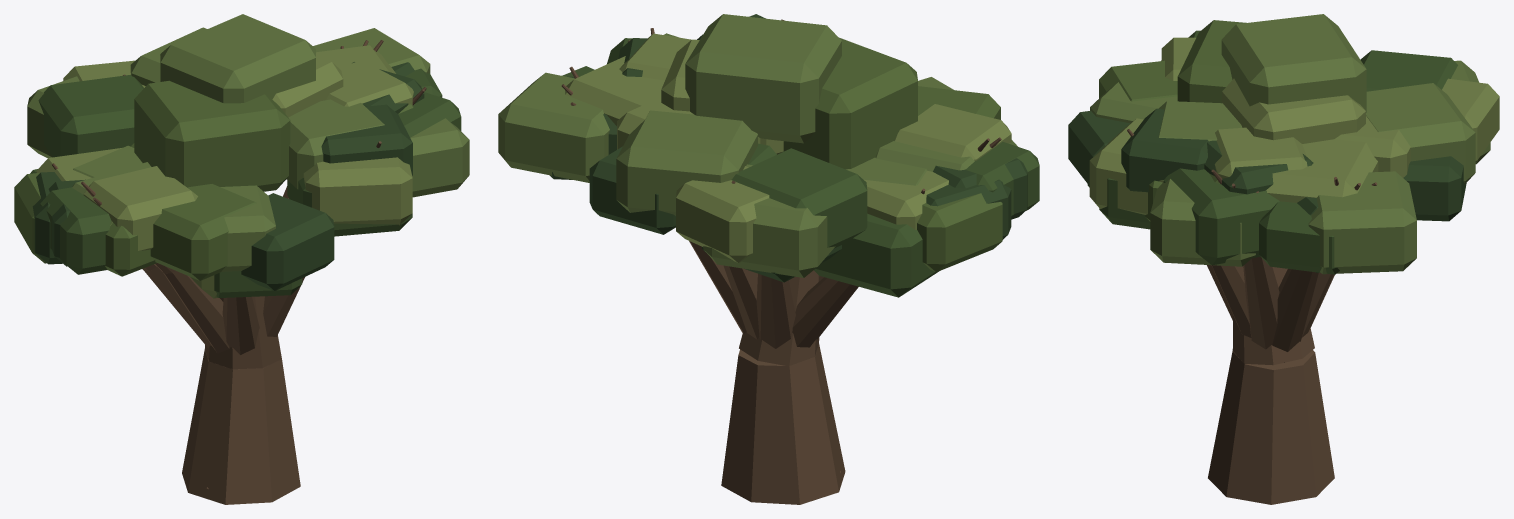
The model's file is apple_ancient.glb.
The picture shows the model from 3 angles, left to right: view 1: azimuth 30°, elevation 25°; view 2: azimuth 150°, elevation 25°; view 3: azimuth 270°, elevation 25°; orthographic projection. The views are drawn at different scales.
Parts seen in each view (by area): view 1: apple_ancient; view 2: apple_ancient; view 3: apple_ancient.
Boxes of the visible parts, left/top/right/bottom form: apple_ancient: left=14, top=14, right=469, bottom=504; apple_ancient: left=498, top=14, right=1039, bottom=504; apple_ancient: left=1068, top=14, right=1499, bottom=504.
Size of the model in its own units: 18.75 by 18 by 15.95.
